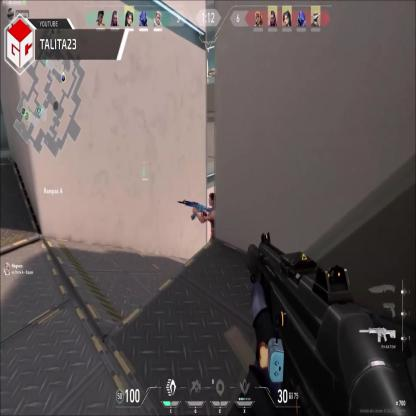enemy: (177, 193, 227, 302)
enemy_head: (208, 192, 216, 206)
